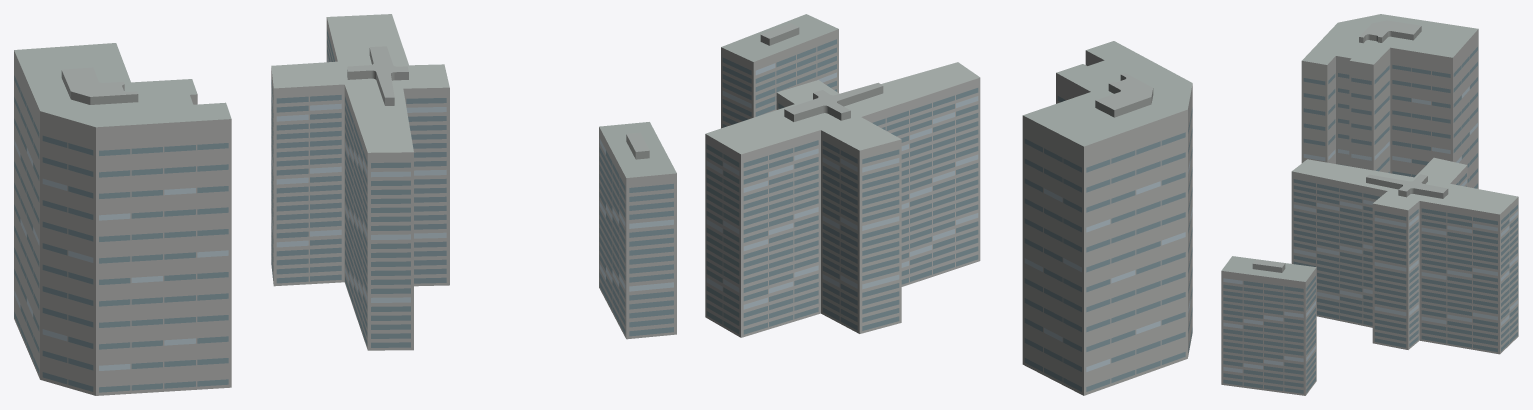
File: apt-a14319307.glb
The picture shows the model from 3 angles, left to right: view 1: azimuth 30°, elevation 25°; view 2: azimuth 150°, elevation 25°; view 3: azimuth 270°, elevation 25°; orthographic projection. The views are drawn at different scales.
Parts seen in each view (by area): view 1: apt-a14319307; view 2: apt-a14319307; view 3: apt-a14319307.
Part boxes in pixels (x1,y1,x2,y2): apt-a14319307: (14,14,676,395); apt-a14319307: (705,14,1192,395); apt-a14319307: (1221,14,1518,395).
Size of the model in its own units: 173 by 82 by 113.
